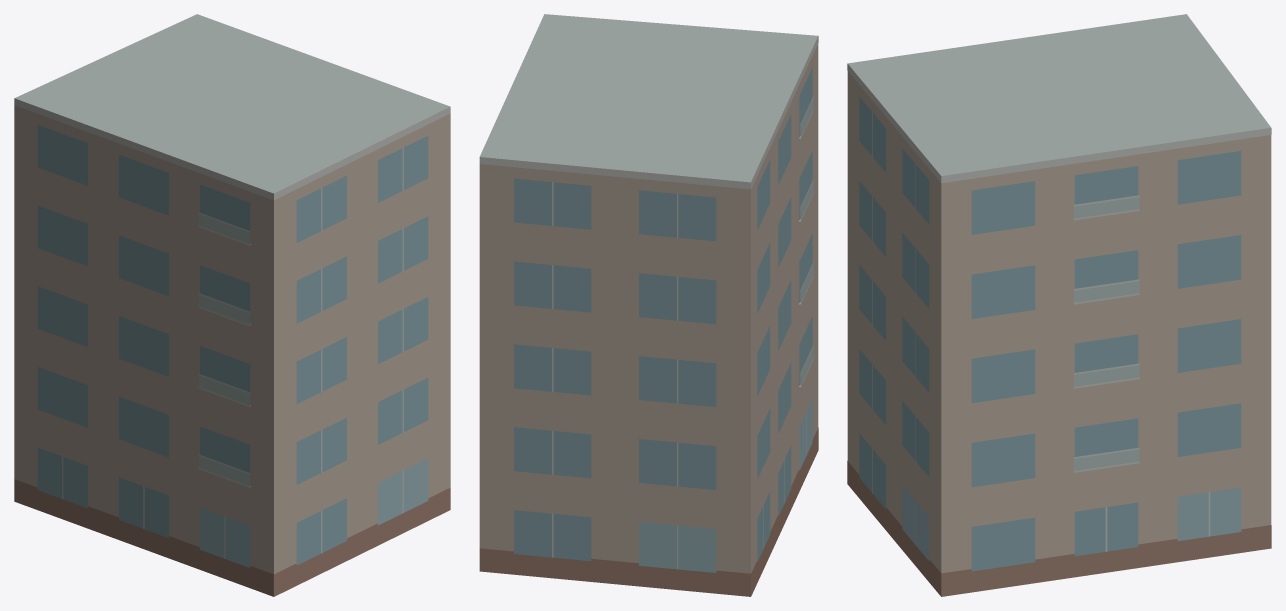
The model's file is survey-upis-32890825.glb.
3 renders of one model, left to right at view 1: azimuth 30°, elevation 25°; view 2: azimuth 150°, elevation 25°; view 3: azimuth 270°, elevation 25°, orthographic. The views are drawn at different scales.
Parts seen in each view (by area): view 1: survey-upis-32890825.tmp; view 2: survey-upis-32890825.tmp; view 3: survey-upis-32890825.tmp.
Boxes of the visible parts, bbox=[...] form: survey-upis-32890825.tmp: bbox=[14, 14, 450, 596]; survey-upis-32890825.tmp: bbox=[479, 14, 818, 596]; survey-upis-32890825.tmp: bbox=[847, 14, 1271, 596].
Size of the model in its own units: 12.01 by 14.51 by 13.26.
